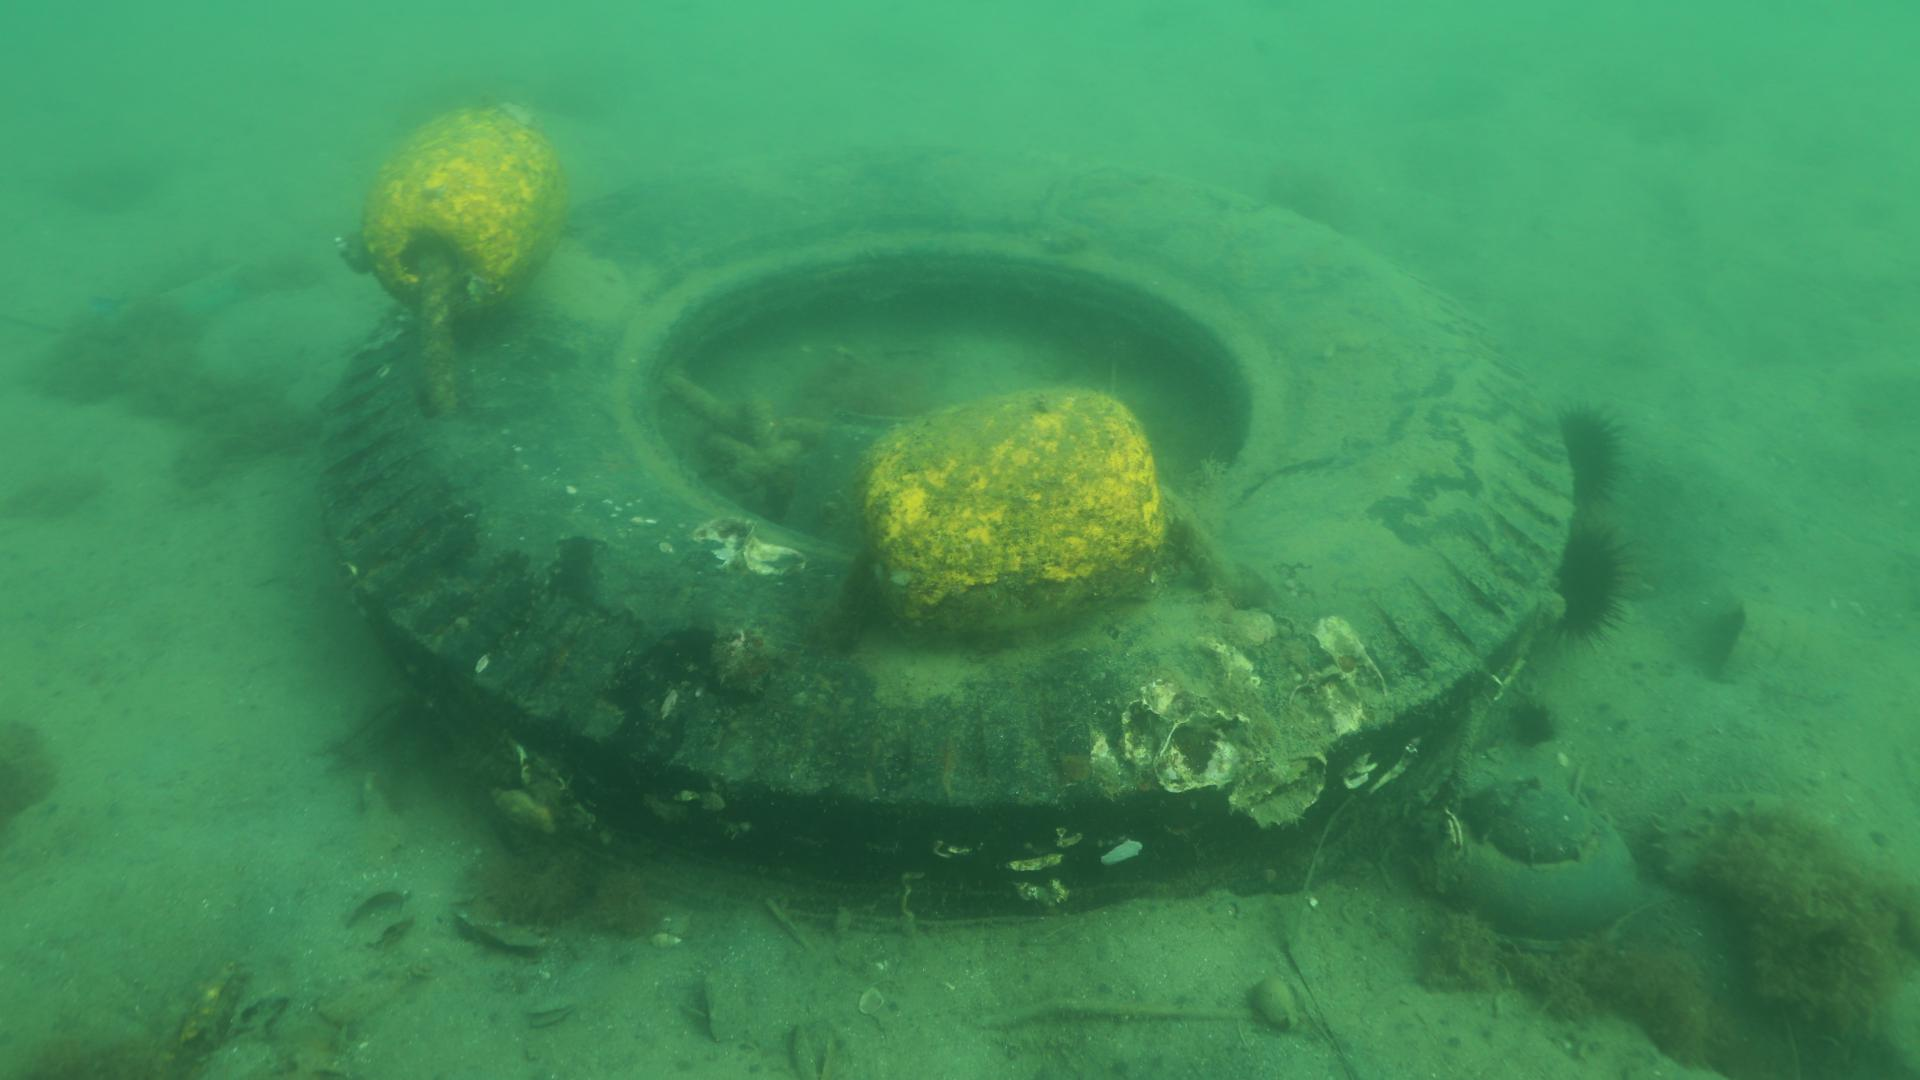bundle of ropes: (662, 371, 884, 488)
tire: (318, 142, 1578, 924)
